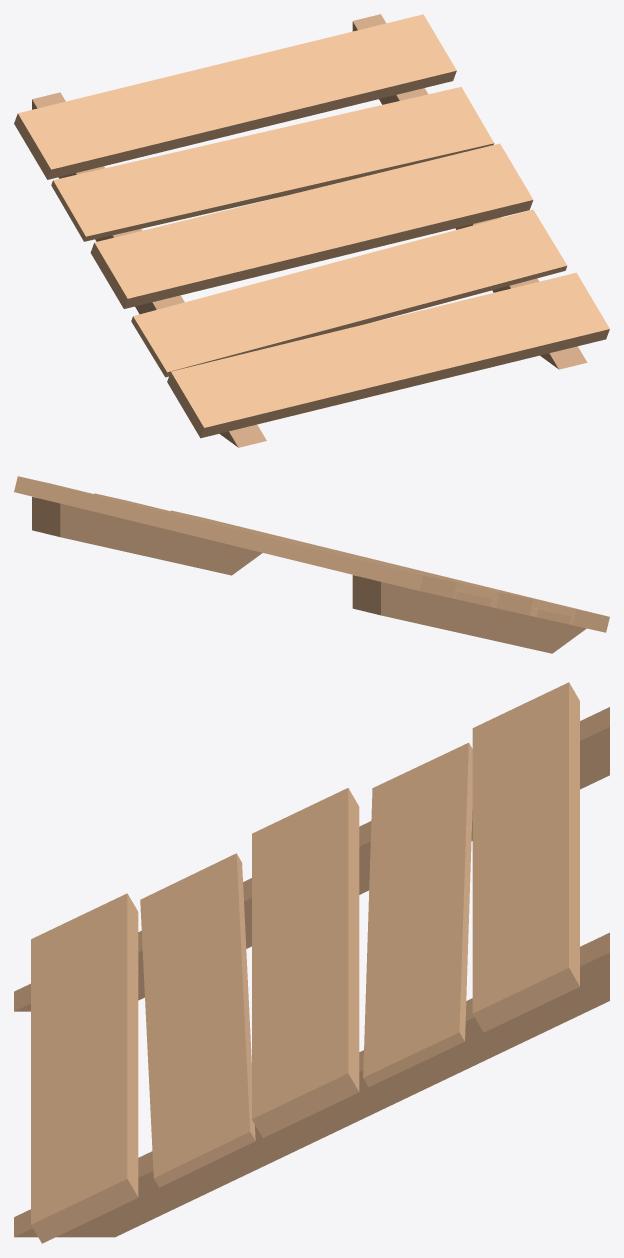
3 renders of one model, top to bottom at view 1: azimuth 30°, elevation 25°; view 2: azimuth 150°, elevation 25°; view 3: azimuth 270°, elevation 25°, orthographic. The views are drawn at different scales.
Parts seen in each view (by area): view 1: bridgeRamp; view 2: bridgeRamp; view 3: bridgeRamp.
Boxes of the visible parts, x1,y1,x2,y2 form: bridgeRamp: (14, 14, 609, 447); bridgeRamp: (14, 476, 609, 653); bridgeRamp: (14, 682, 609, 1243).
Bounding box in the file's own units: 1 × 0.4726 × 0.882.
